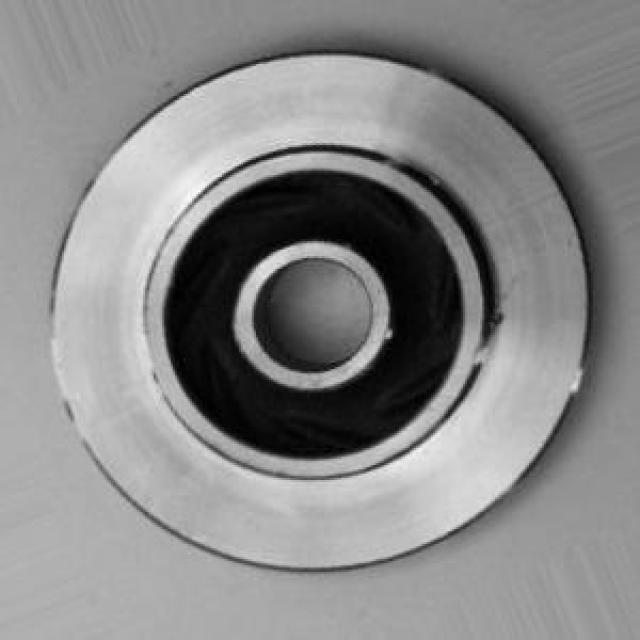Defect: (478, 304, 508, 346)
